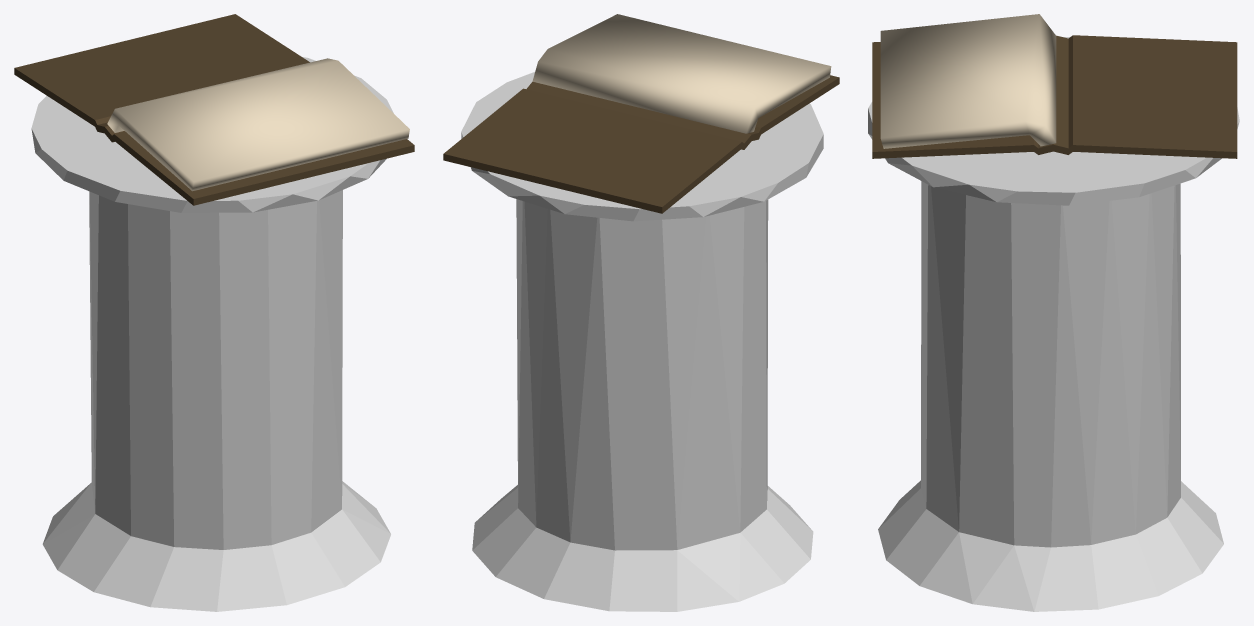
File: podium.fbx
3 renders of one model, left to right at view 1: azimuth 30°, elevation 25°; view 2: azimuth 150°, elevation 25°; view 3: azimuth 270°, elevation 25°, orthographic. The views are drawn at different scales.
Parts seen in each view (by area): view 1: Cylinder.001, Cube.004, Cube.002; view 2: Cylinder.001, Cube.002, Cube.004; view 3: Cylinder.001, Cube.002, Cube.004.
Boxes of the visible parts, x1,y1,x2,y2 form: Cylinder.001: (31,57,393,611); Cube.004: (107,58,409,191); Cube.002: (14,14,414,205); Cylinder.001: (461,72,823,611); Cube.002: (443,75,839,213); Cube.004: (532,14,831,133); Cylinder.001: (868,37,1239,611); Cube.002: (872,35,1237,158); Cube.004: (880,14,1056,148).
Bounding box in the file's own units: 286 × 399 × 286.
